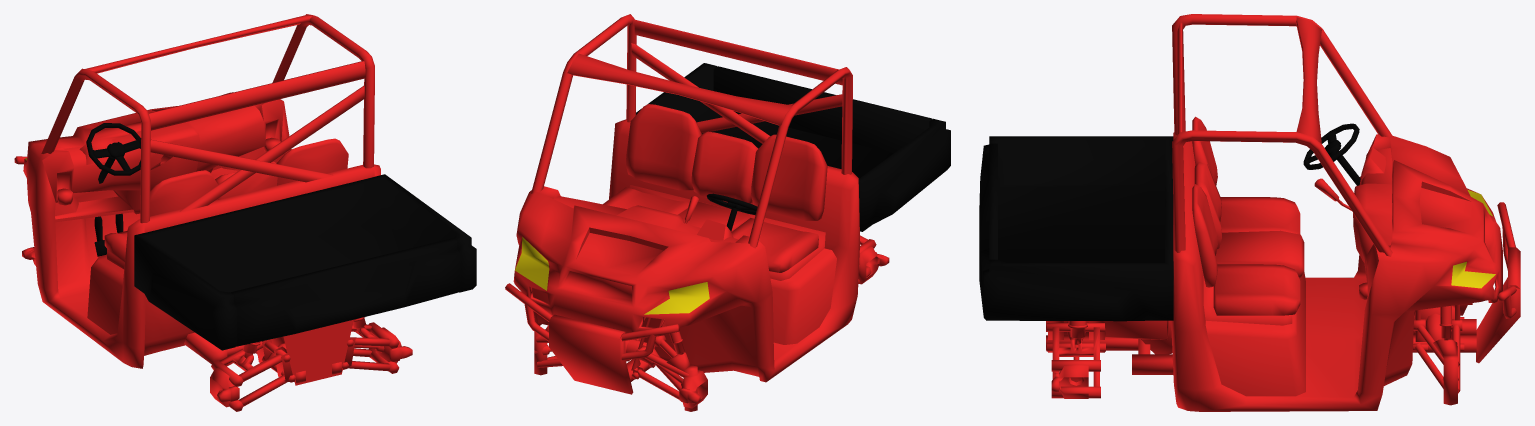
The model's file is target_vehicle.dae.
3 renders of one model, left to right at view 1: azimuth 30°, elevation 25°; view 2: azimuth 150°, elevation 25°; view 3: azimuth 270°, elevation 25°, orthographic. The views are drawn at different scales.
Parts seen in each view (by area): view 1: Body, Bed, Tail_Gate, Steering_Wheel; view 2: Body, Bed, Tail_Gate, Brake_Front_Left, Steering_Wheel; view 3: Body, Bed, Tail_Gate, Steering_Wheel.
Part boxes in pixels (left/top/right/bottom): Body: left=14, top=14, right=412, bottom=411; Bed: left=134, top=174, right=476, bottom=350; Tail_Gate: left=230, top=238, right=460, bottom=346; Steering_Wheel: left=86, top=123, right=141, bottom=183; Body: left=505, top=14, right=889, bottom=411; Bed: left=636, top=63, right=950, bottom=231; Tail_Gate: left=713, top=66, right=932, bottom=153; Brake_Front_Left: left=679, top=370, right=707, bottom=408; Steering_Wheel: left=707, top=193, right=757, bottom=231; Body: left=1046, top=14, right=1520, bottom=411; Bed: left=982, top=136, right=1173, bottom=321; Tail_Gate: left=979, top=143, right=997, bottom=306; Steering_Wheel: left=1303, top=123, right=1360, bottom=185.
Bounding box in the file's own units: 1.81 × 2.98 × 1.76.
